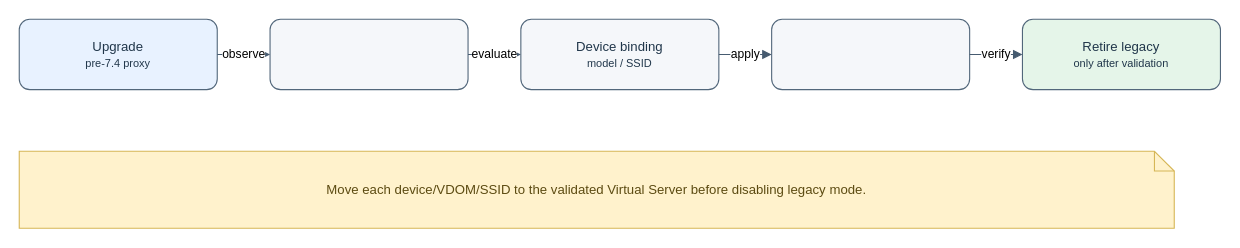
The diagram is 1240 pixels wide and 248 high, and some of its shapes have lost their labels. Here are the shapes that lost their labels. From the top down, the centre of each, then its label:
At point 368,54: "Virtual Server local or proxy".
At point 870,54: "Auth + accounting test both paths".
